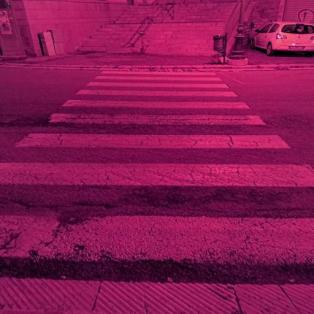Paso de Cebra: (0, 129, 313, 197), (59, 90, 251, 111), (90, 71, 228, 82)
